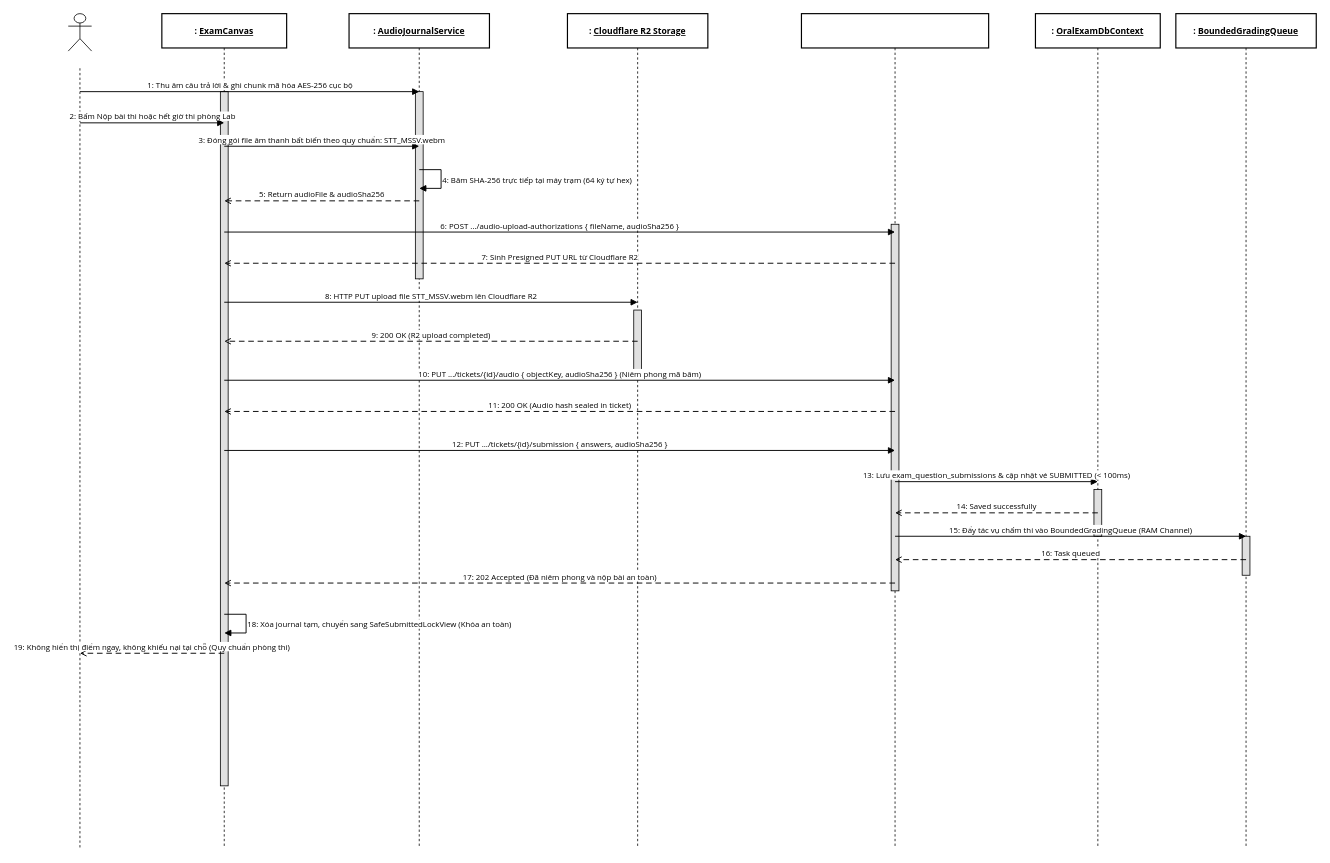
Image size: 1330x863. Some labels were removed from this diagram. The centre of each missing label's shape, as x and y in pixels:
": OfficialExamSubmissionsController" belongs at pixel 895 30.
": Thí sinh" belongs at pixel 79 32.
